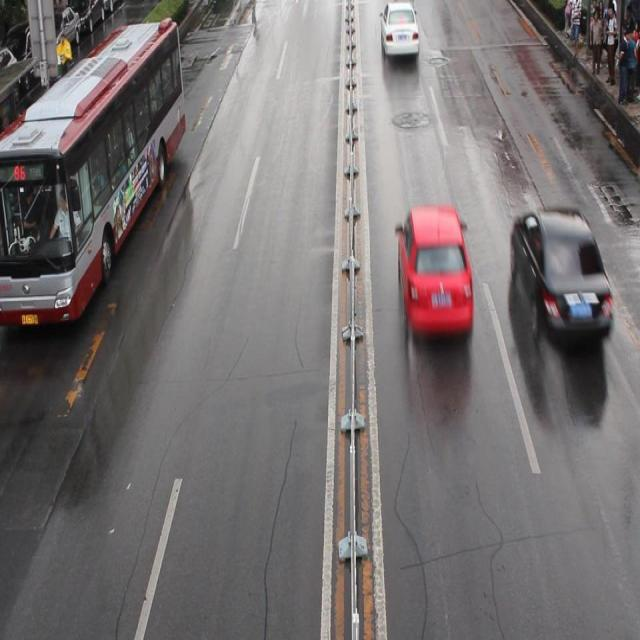car: (509, 205, 612, 341), (396, 204, 473, 335), (378, 1, 420, 57)
van: (1, 17, 186, 321)
